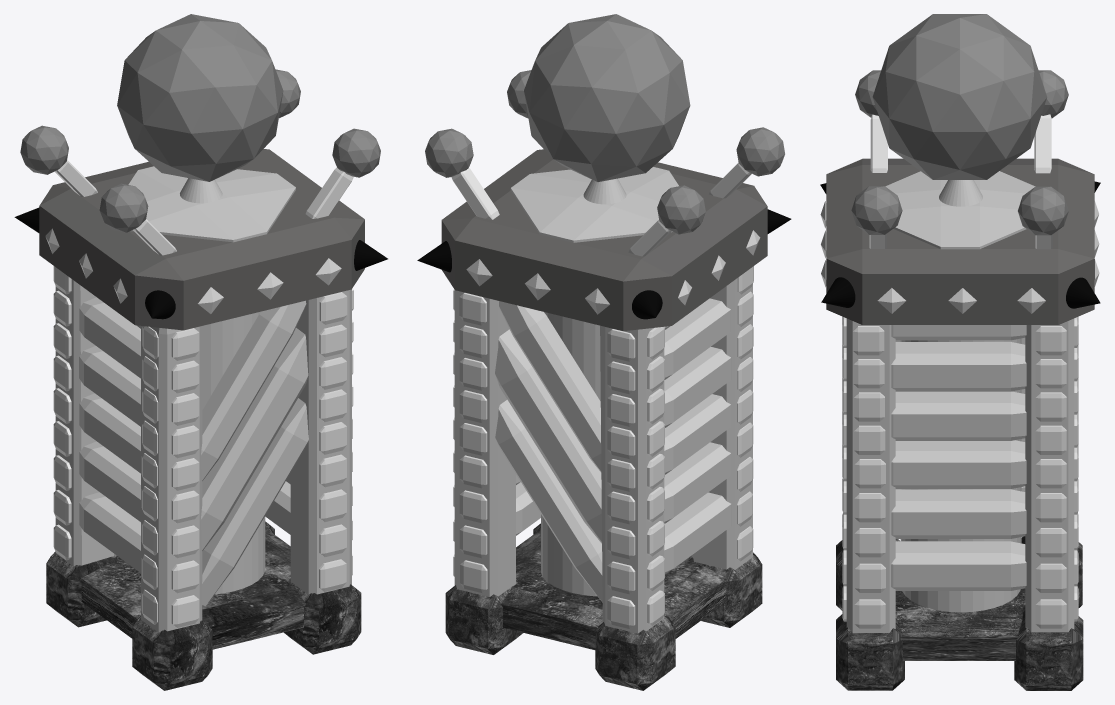
The model's file is Towerelec.fbx.
The picture shows the model from 3 angles, left to right: view 1: azimuth 30°, elevation 25°; view 2: azimuth 150°, elevation 25°; view 3: azimuth 270°, elevation 25°; orthographic projection. The views are drawn at different scales.
Visible parts, largest first — view 1: Cube.009, Icosphere, Basement, foundation 1, foundation 2, Cube.019, Cube.001, Cube.002, Cube, foundation 4, Leg 4, Cylinder (+36 smaller); view 2: Cube.009, Icosphere, Basement, foundation 3, foundation 4, Cube.019, Cube.003, Cube.005, Cube.004, foundation 2, Leg 3, Cylinder (+36 smaller); view 3: Cube.009, Icosphere, foundation 3, Cube.019, foundation 1, Basement, Cube.007, Cube.006, Cube.010, Cube.011, Cube.008, Leg 2 (+31 smaller).
Part boxes in pixels (bbox=[...]): Cube.009: bbox=[39, 149, 364, 330]; Icosphere: bbox=[117, 14, 283, 181]; Basement: bbox=[80, 531, 305, 649]; foundation 1: bbox=[290, 289, 351, 594]; foundation 2: bbox=[141, 326, 202, 632]; Cube.019: bbox=[128, 166, 295, 242]; Cube.001: bbox=[200, 328, 308, 550]; Cube.002: bbox=[201, 300, 306, 480]; Cube: bbox=[202, 398, 308, 606]; foundation 4: bbox=[55, 279, 116, 566]; Leg 4: bbox=[132, 616, 212, 690]; Cylinder: bbox=[202, 311, 265, 594]; Cube.009: bbox=[441, 149, 767, 331]; Icosphere: bbox=[524, 14, 690, 181]; Basement: bbox=[500, 531, 727, 650]; foundation 3: bbox=[454, 290, 515, 596]; foundation 4: bbox=[600, 325, 664, 633]; Cube.019: bbox=[510, 167, 678, 242]; Cube.003: bbox=[495, 329, 601, 543]; Cube.005: bbox=[495, 399, 602, 602]; Cube.004: bbox=[499, 301, 601, 472]; foundation 2: bbox=[691, 278, 752, 569]; Leg 3: bbox=[595, 613, 675, 690]; Cylinder: bbox=[541, 312, 600, 596]; Cube.009: bbox=[826, 158, 1094, 324]; Icosphere: bbox=[872, 14, 1046, 179]; foundation 3: bbox=[1025, 318, 1074, 632]; Cube.019: bbox=[885, 171, 1035, 249]; foundation 1: bbox=[846, 318, 895, 632]; Basement: bbox=[895, 588, 1025, 660]; Cube.007: bbox=[891, 489, 1026, 538]; Cube.006: bbox=[891, 541, 1026, 590]; Cube.010: bbox=[891, 391, 1026, 440]; Cube.011: bbox=[891, 342, 1026, 391]; Cube.008: bbox=[891, 440, 1026, 488]; Leg 2: bbox=[1014, 610, 1083, 690].
Size of the model in its own units: 288 by 612 by 250.
